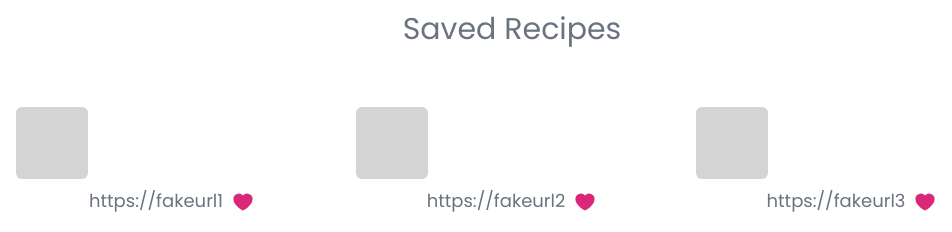
Saved meals component › handles meal unsave
Step 1. Click the button with test id "save-meal-btn" next to "https://fakeurl1" → (239, 201), box [223,187,255,215]
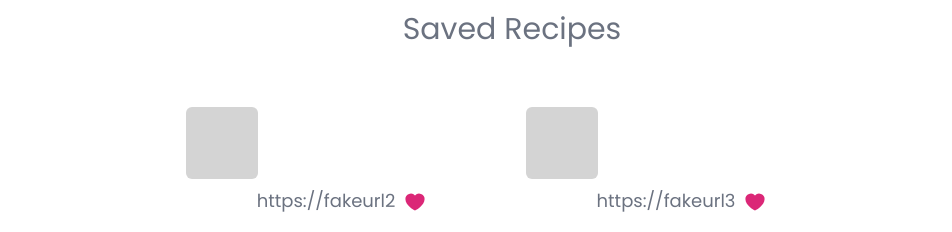
Check: the number of buttons with test id "save-meal-btn" is 2, box [395,187,427,215]; [736,187,768,215]
